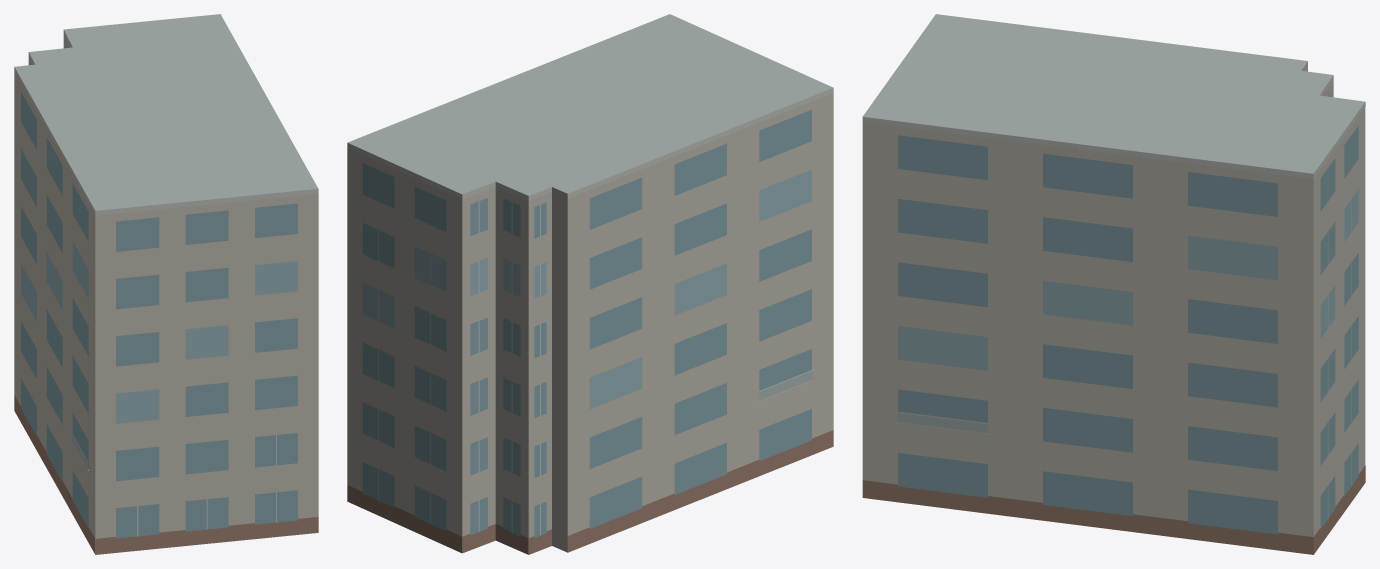
The model's file is survey-upis-33038021.glb.
3 views of the same model, side by side, from view 1: azimuth 30°, elevation 25°; view 2: azimuth 150°, elevation 25°; view 3: azimuth 270°, elevation 25° (orthographic). The views are drawn at different scales.
Visible parts, largest first — view 1: survey-upis-33038021.tmp; view 2: survey-upis-33038021.tmp; view 3: survey-upis-33038021.tmp.
Part boxes in pixels (x1,y1,x2,y2): survey-upis-33038021.tmp: (14, 14, 318, 554); survey-upis-33038021.tmp: (347, 14, 833, 554); survey-upis-33038021.tmp: (862, 14, 1365, 554).
Size of the model in its own units: 15.61 by 17.35 by 20.76.
